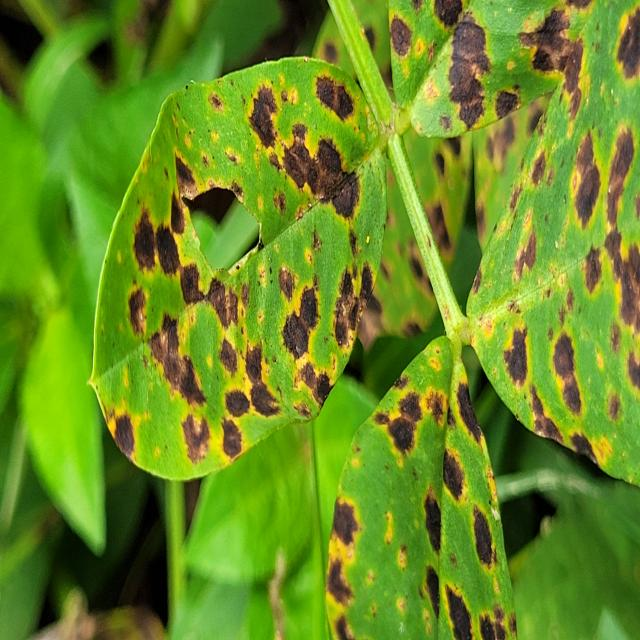Ground nut_tikka leaf spot: (90, 55, 390, 477), (462, 3, 640, 482), (328, 339, 519, 640)
